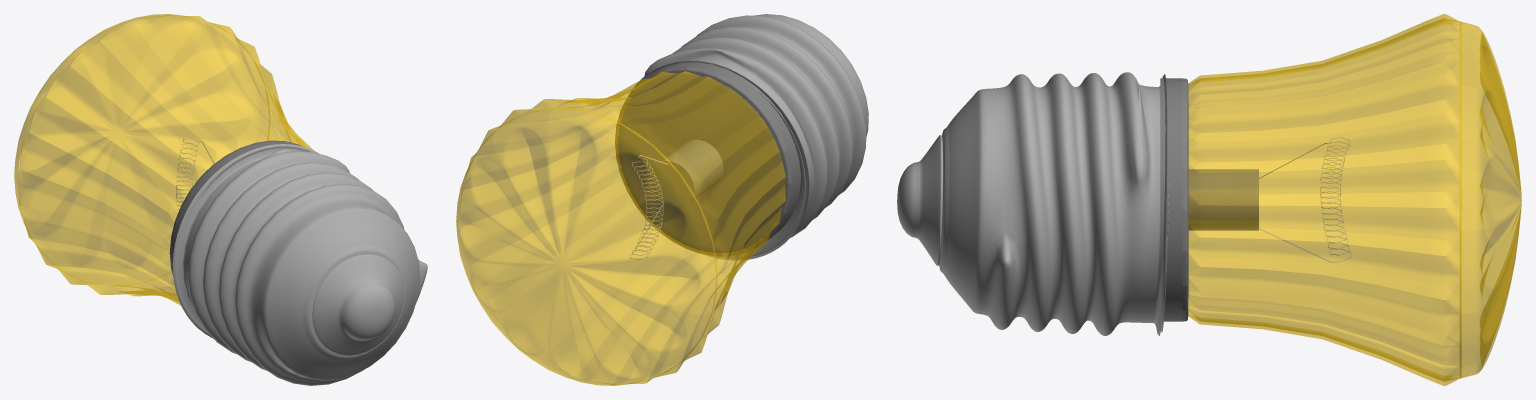
Rendered from Fancy_LightBulb.fbx.
3 renders of one model, left to right at view 1: azimuth 30°, elevation 25°; view 2: azimuth 150°, elevation 25°; view 3: azimuth 270°, elevation 25°, orthographic. The views are drawn at different scales.
Visible parts, largest first — view 1: Glass, Bulb_Metal, Base, Filament; view 2: Glass, Base, Bulb_Metal, Filament; view 3: Glass, Bulb_Metal, Base, Filament.
Boxes of the visible parts, left/top/right/bottom form: Glass: left=14, top=14, right=313, bottom=305; Bulb_Metal: left=172, top=144, right=427, bottom=385; Base: left=169, top=140, right=309, bottom=276; Filament: left=176, top=138, right=214, bottom=212; Glass: left=456, top=71, right=785, bottom=385; Base: left=615, top=60, right=800, bottom=256; Bulb_Metal: left=628, top=14, right=868, bottom=260; Filament: left=629, top=155, right=668, bottom=259; Glass: left=1188, top=14, right=1521, bottom=385; Bulb_Metal: left=897, top=72, right=1169, bottom=335; Base: left=1160, top=78, right=1258, bottom=321; Filament: left=1259, top=137, right=1351, bottom=262.
Size of the model in its own units: 330 by 330 by 558.
